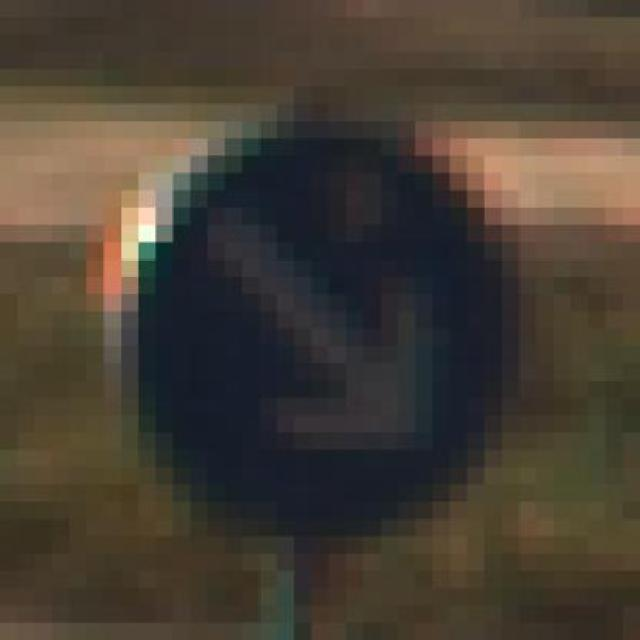Keep-Right: (86, 86, 554, 588)
